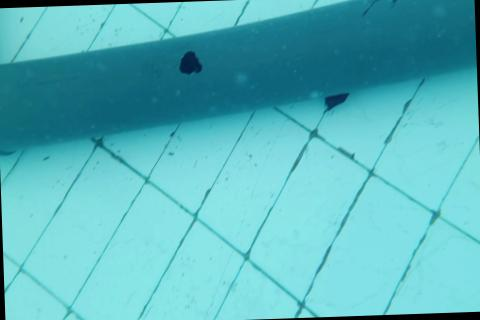kebocoran: (178, 48, 203, 75)
keretakan: (351, 0, 441, 16)
